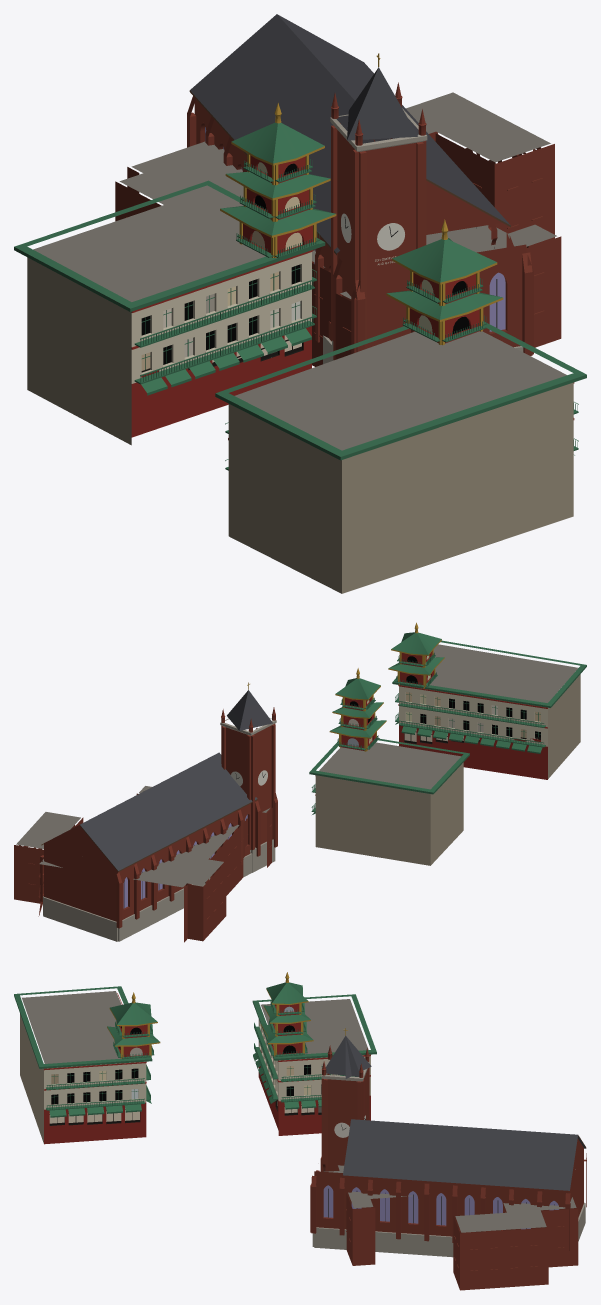
File: chinatown_lod0.glb
3 renders of one model, top to bottom at view 1: azimuth 30°, elevation 25°; view 2: azimuth 150°, elevation 25°; view 3: azimuth 270°, elevation 25°, orthographic. The views are drawn at different scales.
Visible parts, largest first — view 1: L0_stucco, L0_roof, L0_brickred, L0_paint, L0_rooftile, L0_win, L0_fabric, L0_granite, L0_metal, L0_lamp; view 2: L0_roof, L0_brickred, L0_stucco, L0_paint, L0_granite, L0_rooftile, L0_win, L0_fabric, L0_metal; view 3: L0_roof, L0_brickred, L0_paint, L0_stucco, L0_win, L0_rooftile, L0_granite, L0_fabric, L0_metal, L0_shop.
Boxes of the visible parts, box(x1,y1,x2,y2) form: L0_stucco: box(27, 250, 574, 593); L0_roof: box(33, 14, 566, 450); L0_brickred: box(115, 82, 561, 366); L0_paint: box(14, 142, 586, 470); L0_rooftile: box(220, 122, 502, 319); L0_win: box(141, 127, 505, 370); L0_fabric: box(141, 328, 574, 455); L0_granite: box(323, 108, 523, 364); L0_metal: box(141, 148, 537, 372); L0_lamp: box(341, 213, 404, 250); L0_roof: box(16, 644, 577, 887); L0_brickred: box(14, 707, 277, 942); L0_stucco: box(315, 674, 580, 865); L0_paint: box(309, 639, 586, 812); L0_granite: box(43, 718, 276, 941); L0_rooftile: box(330, 632, 444, 737); L0_win: box(123, 655, 540, 908); L0_fabric: box(312, 722, 542, 814); L0_metal: box(20, 692, 540, 907); L0_roof: box(22, 991, 585, 1232); L0_brickred: box(310, 1045, 586, 1290); L0_paint: box(14, 986, 376, 1144); L0_stucco: box(20, 993, 370, 1143); L0_win: box(51, 1006, 559, 1229); L0_rooftile: box(107, 982, 312, 1045); L0_granite: box(312, 1059, 585, 1257); L0_fabric: box(49, 1053, 321, 1117); L0_metal: box(49, 1065, 554, 1228); L0_shop: box(49, 1101, 321, 1123).
Size of the model in its own units: 79.03 by 42.52 by 109.
